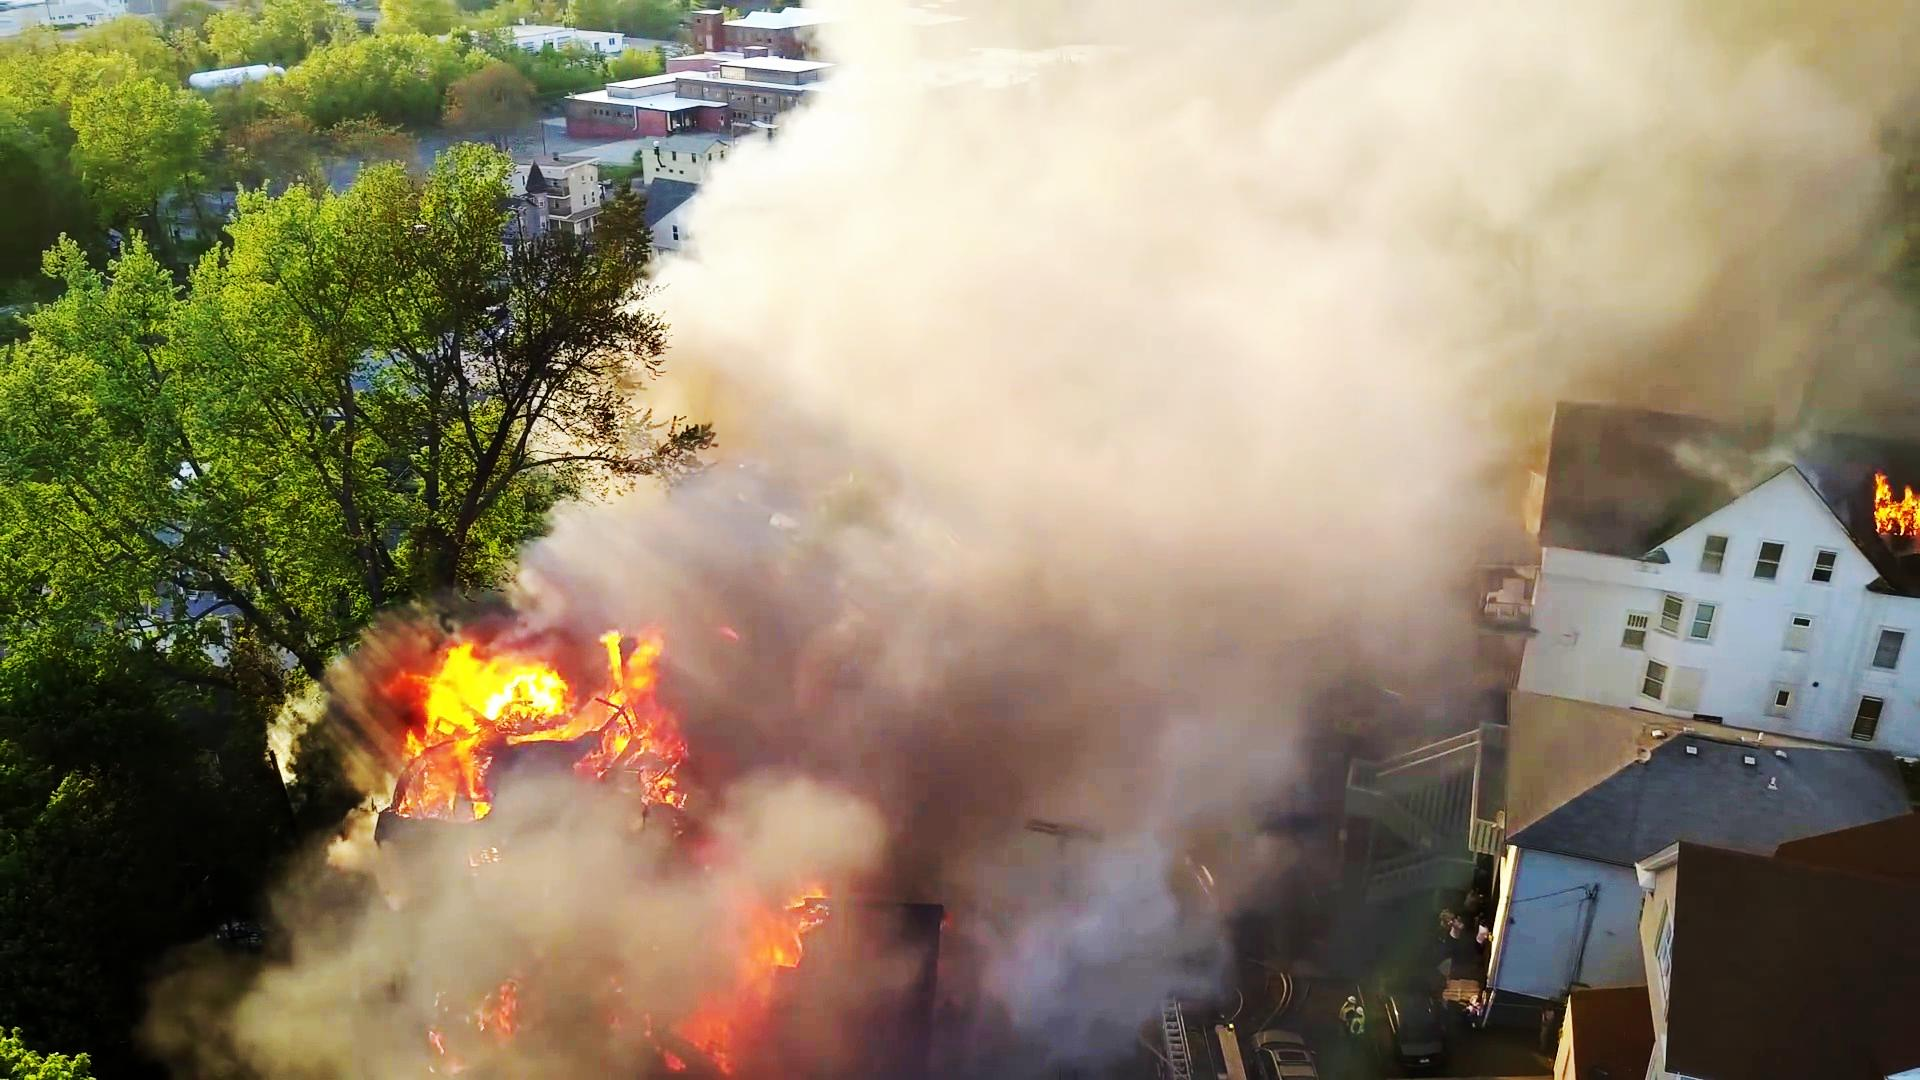fire: (415, 633, 669, 794), (1840, 466, 1920, 546)
